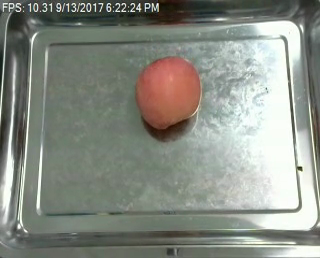Apple: (133, 51, 203, 133)
